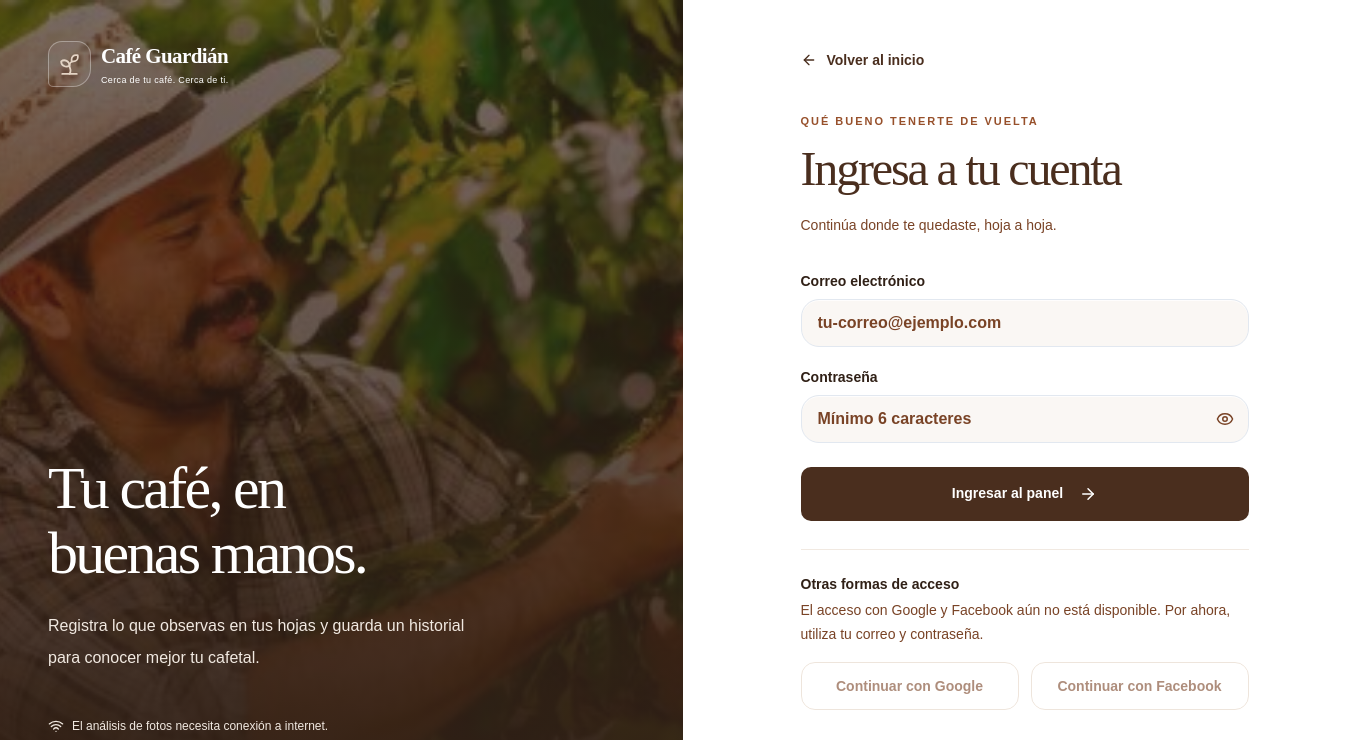
it: acceso desde la portada › recupera el botón si no hay conexión
Type "ana@example.com" into the field labelled "Correo electrónico" at (1024, 322), box x1=800 y1=298 x2=1248 y2=346
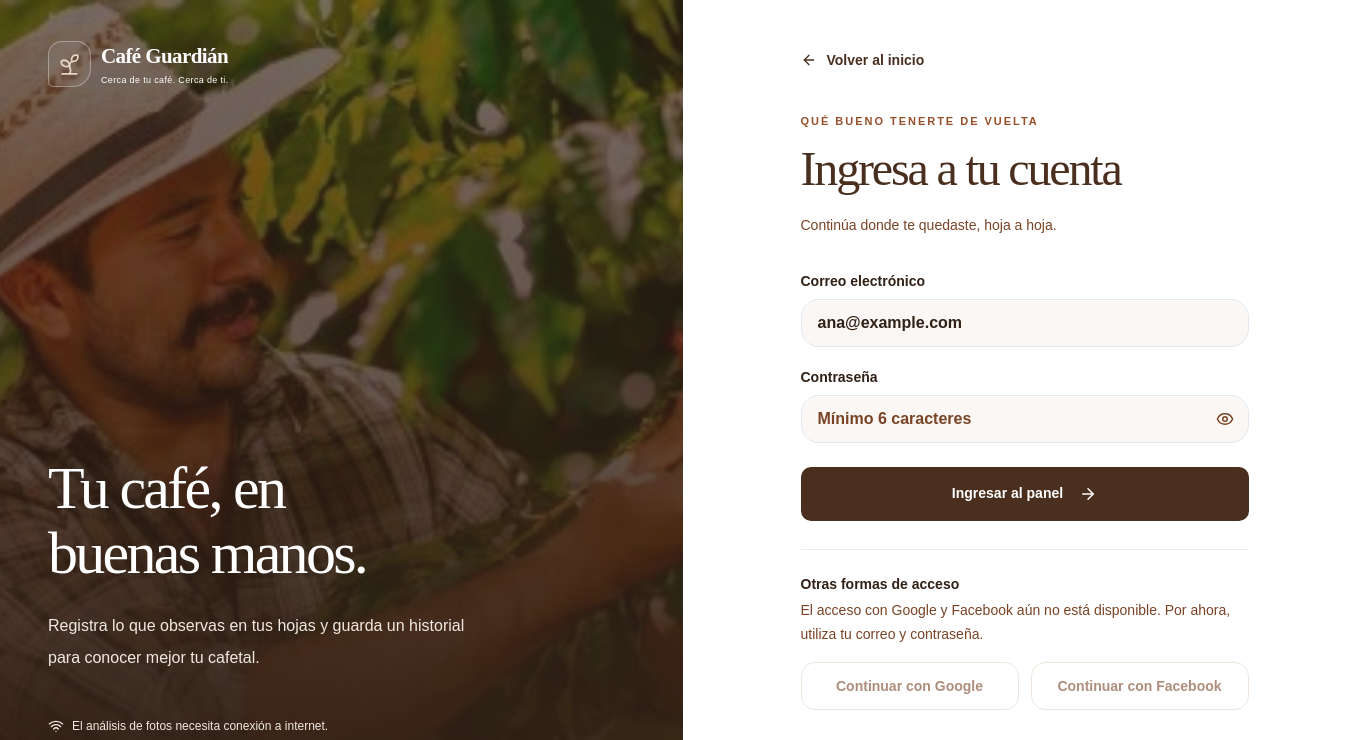
Type "clave123" into the password field labelled "Contraseña" at (1024, 418), box x1=800 y1=394 x2=1248 y2=442
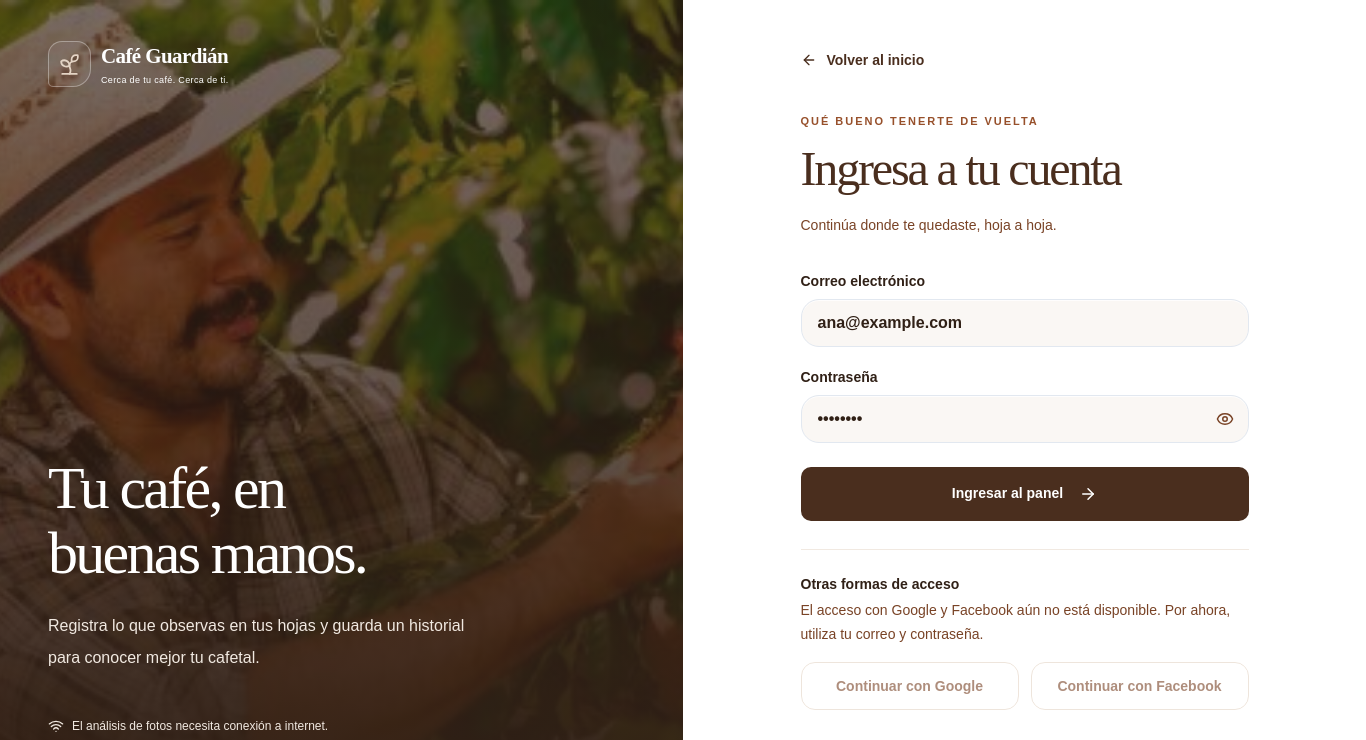
Click the button "Ingresar al panel" at (1024, 494), box x1=800 y1=466 x2=1248 y2=520
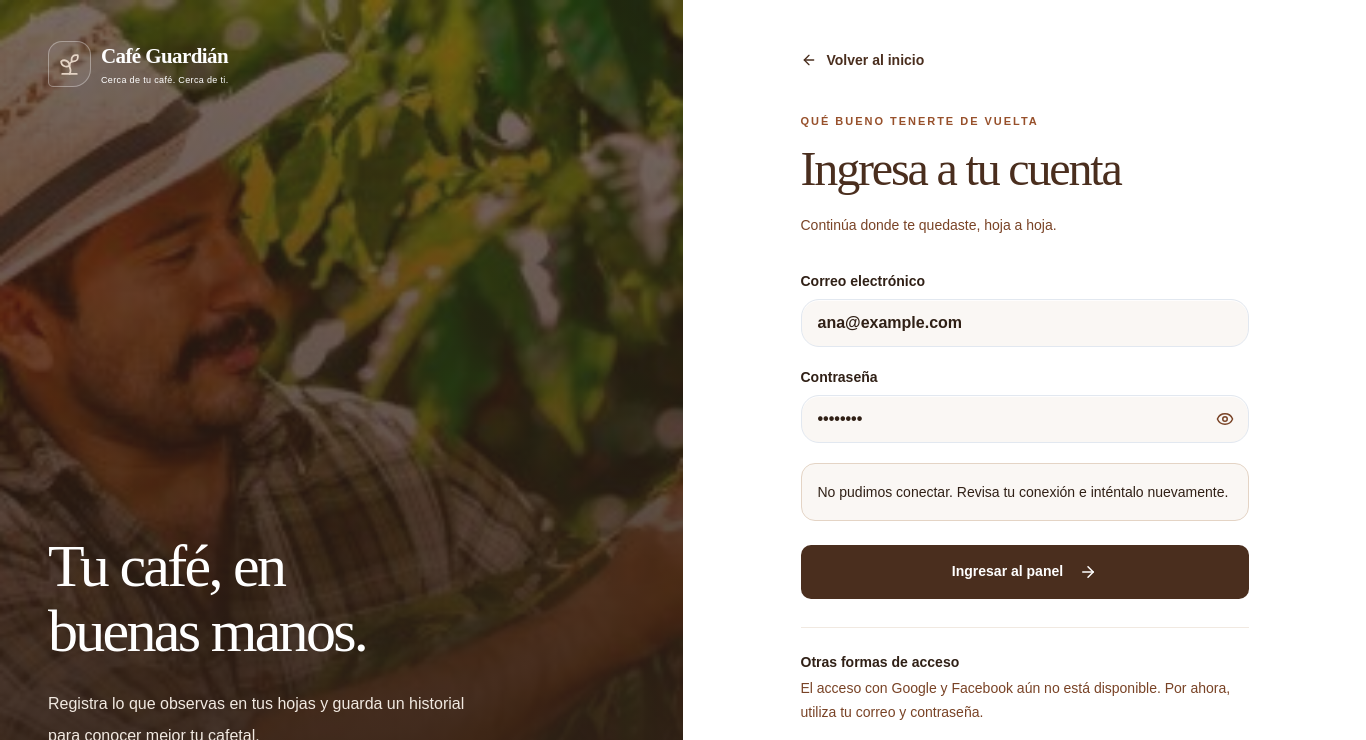
Expected: the button "Ingresar al panel" is enabled, x1=800 y1=544 x2=1248 y2=598
Expected: the message shows "Revisa tu conexión", x1=818 y1=484 x2=1228 y2=500
